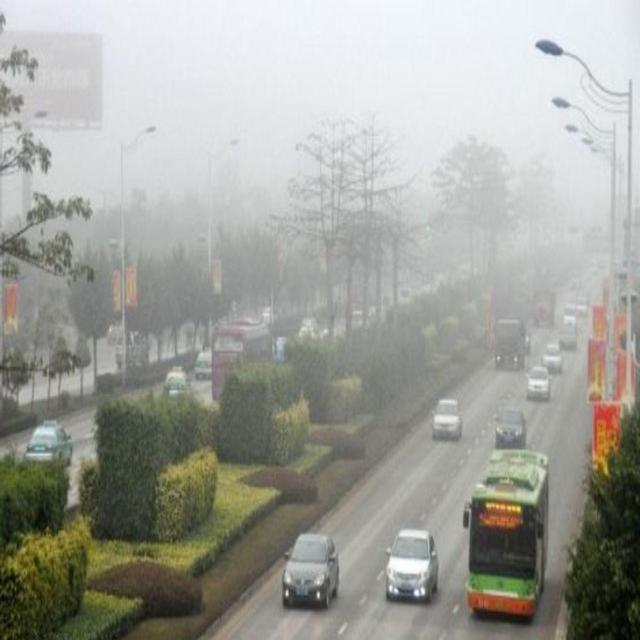Car: (282, 532, 340, 609), (386, 528, 438, 601), (27, 423, 73, 467), (114, 330, 149, 369), (432, 398, 463, 440), (494, 408, 527, 446), (526, 366, 552, 398), (163, 369, 192, 396), (541, 342, 563, 372), (525, 330, 530, 353)
Truck: (494, 316, 526, 369), (531, 290, 555, 325)
Van: (209, 319, 274, 399), (560, 314, 578, 347)
